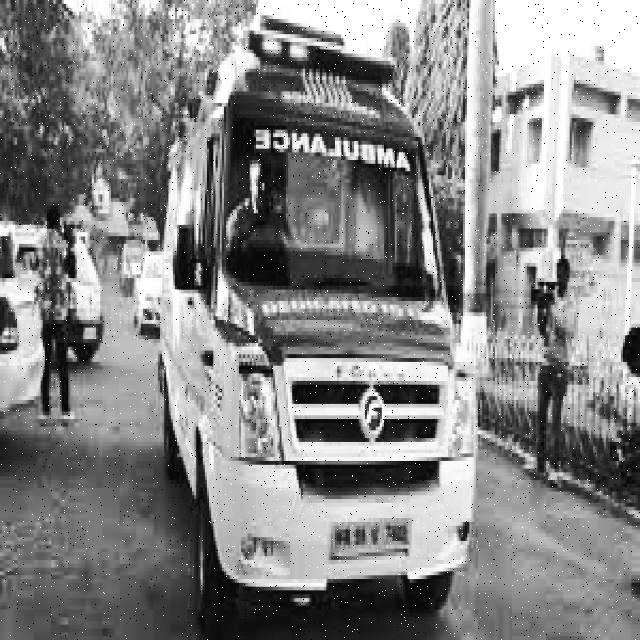LCV: (209, 8, 476, 593)
